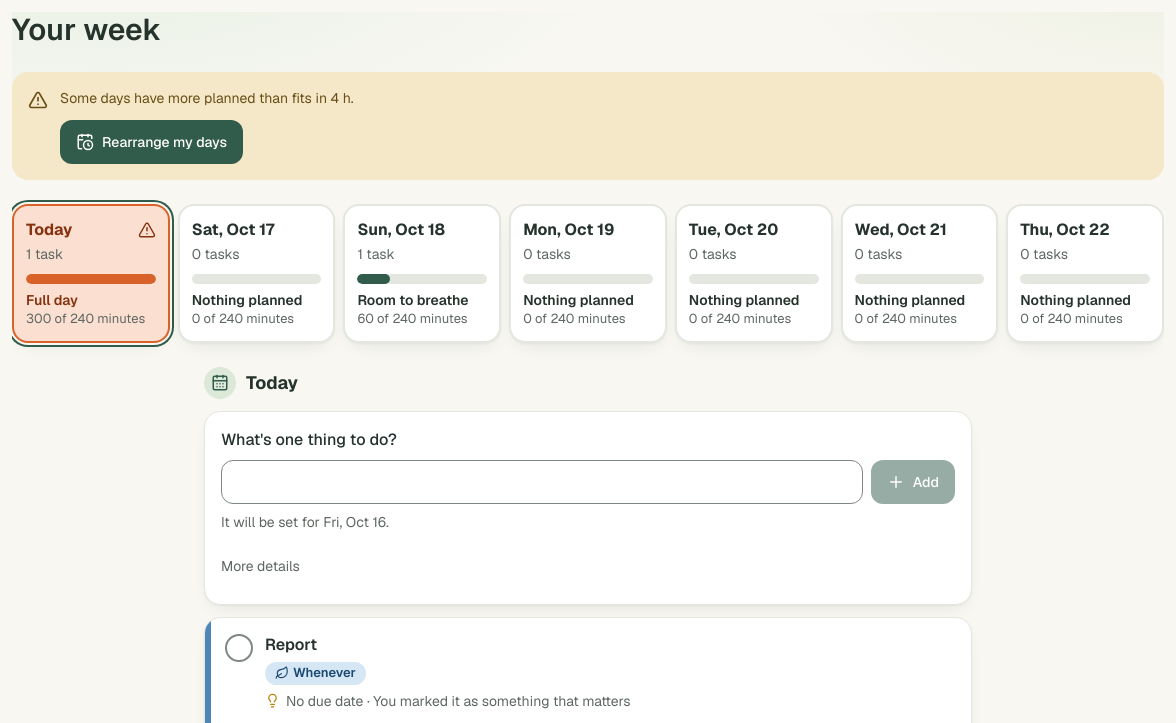
Test: WeekView › labels each day's load in words and lists the chosen day's tasks
Expected: the button "Today 1 task Full day 300 of 240 minutes" is shown, x1=12 y1=204 x2=170 y2=343
Expected: the checkbox labelled "Report" is shown, x1=225 y1=634 x2=253 y2=662
Click the button "Sun, Oct 18 1 task Room to breathe 60 of 240 minutes" at [422, 273], box x1=343 y1=204 x2=501 y2=343
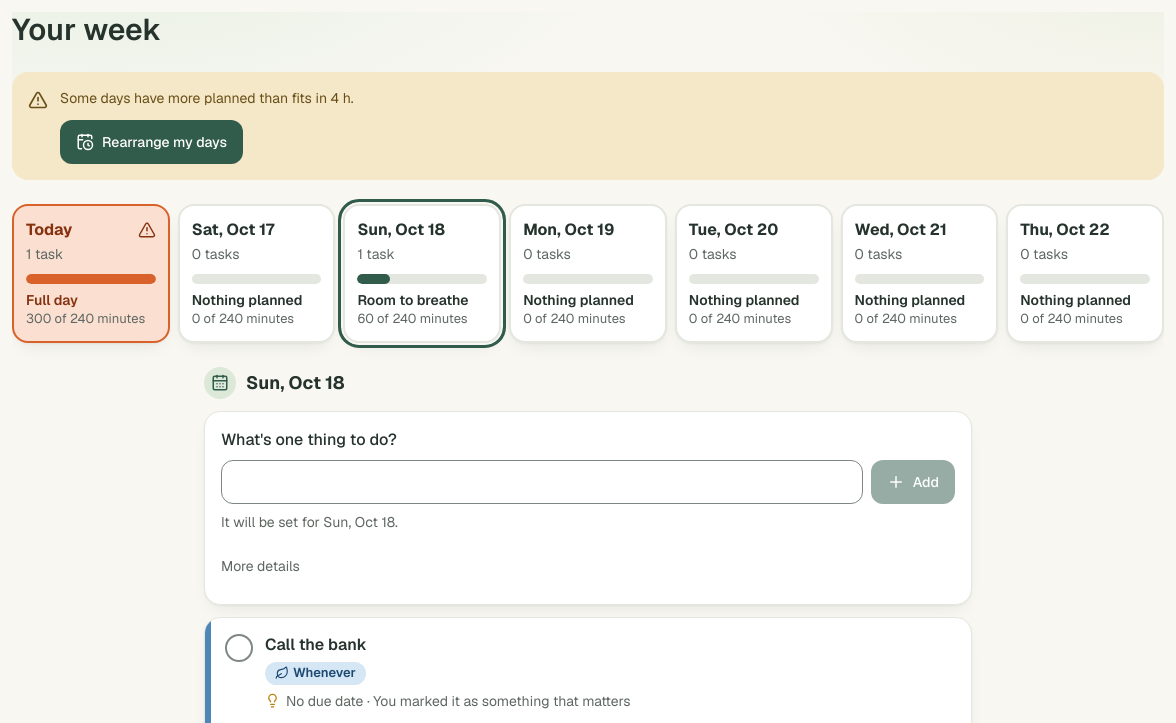
Expected: the checkbox labelled "Call the bank" is shown, x1=225 y1=634 x2=253 y2=662
Now the text labelled "Report" is gone
